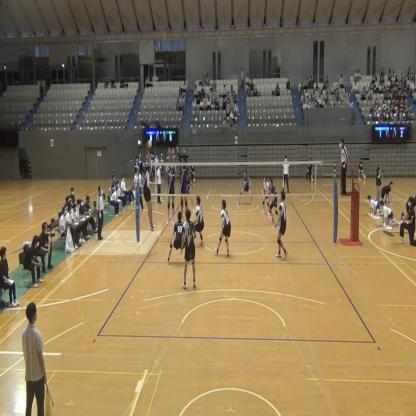spike: (139, 137, 158, 234)
